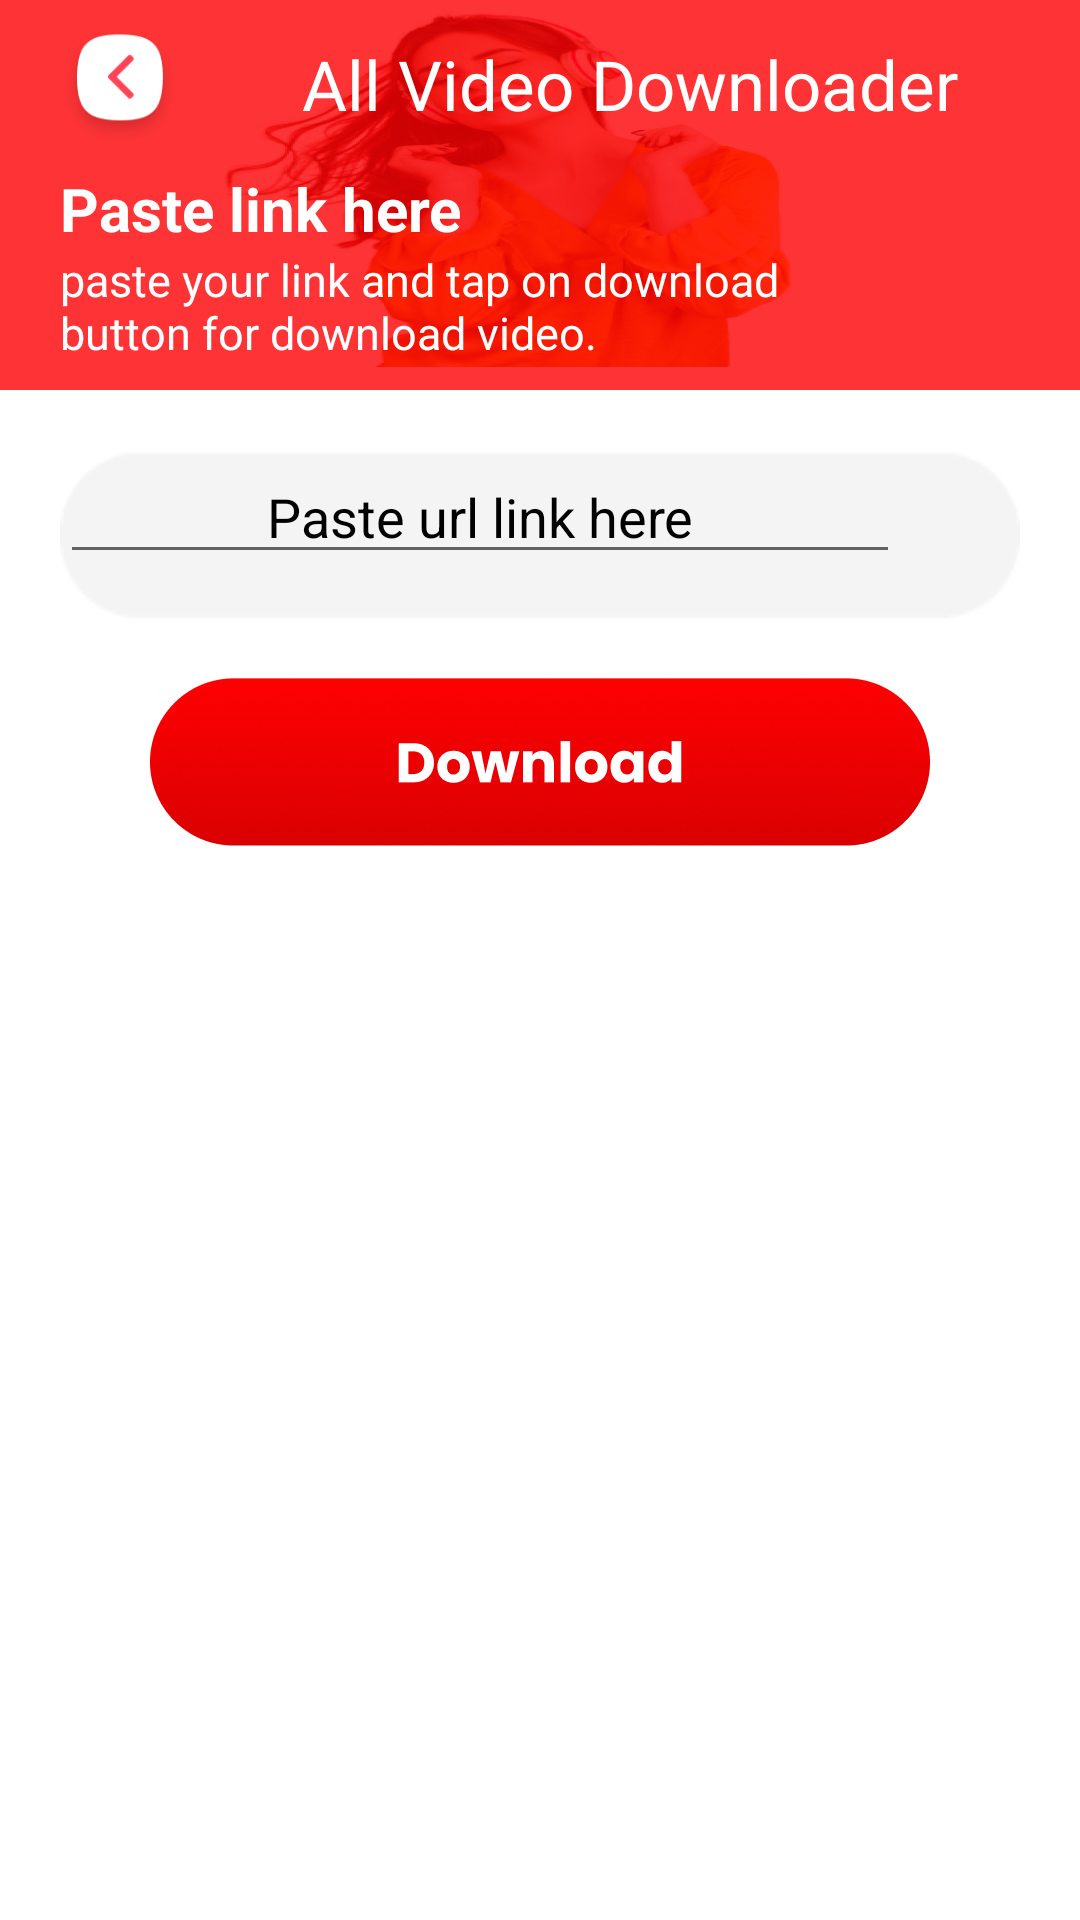

Where icons sit on this 1080×1920 app screen, as {"left": x1, "top": y1, "right": x2, "bottom": y2}:
back: {"left": 77, "top": 34, "right": 163, "bottom": 127}
